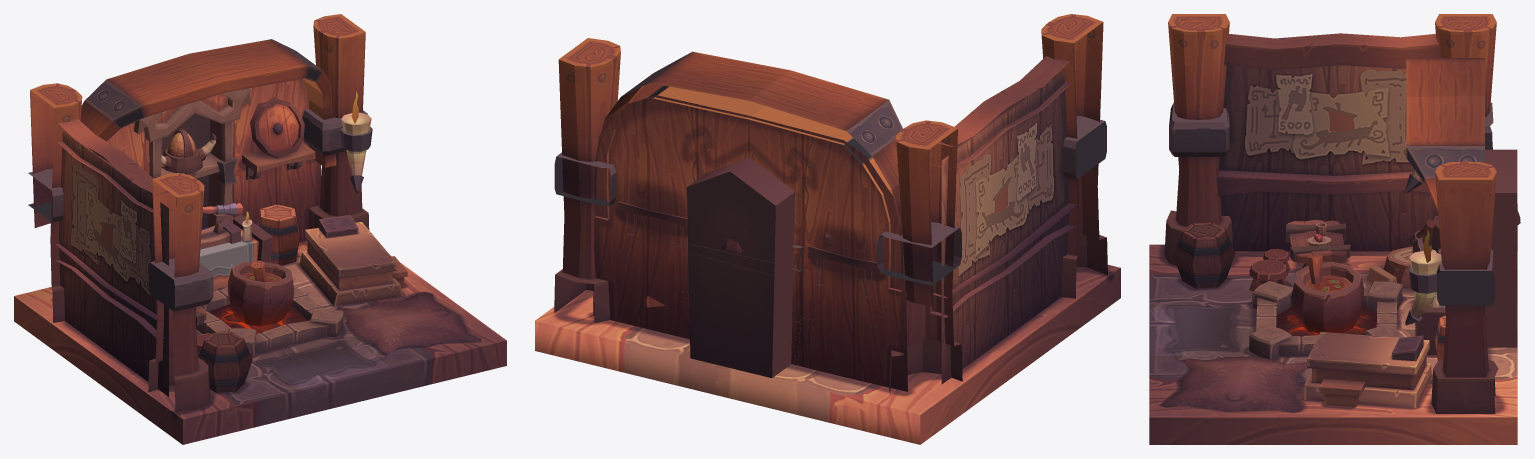
Rendered from viking_room.gltf.
The picture shows the model from 3 angles, left to right: view 1: azimuth 30°, elevation 25°; view 2: azimuth 150°, elevation 25°; view 3: azimuth 270°, elevation 25°; orthographic projection. The views are drawn at different scales.
Parts seen in each view (by area): view 1: mesh_all1; view 2: mesh_all1; view 3: mesh_all1.
Part boxes in pixels (<box>): mesh_all1: <box>14,14,506,444</box>; mesh_all1: <box>535,14,1120,444</box>; mesh_all1: <box>1149,14,1520,444</box>.
Size of the model in its own units: 0.2631 by 0.186 by 0.2391.
1 material, 1 textured.
